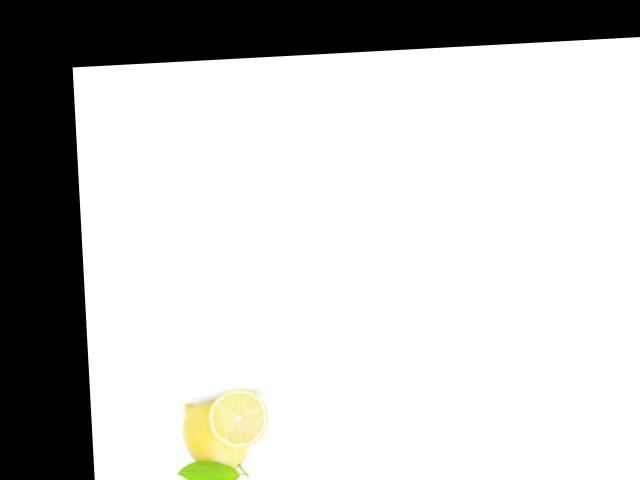lemon: (173, 392, 254, 480)
